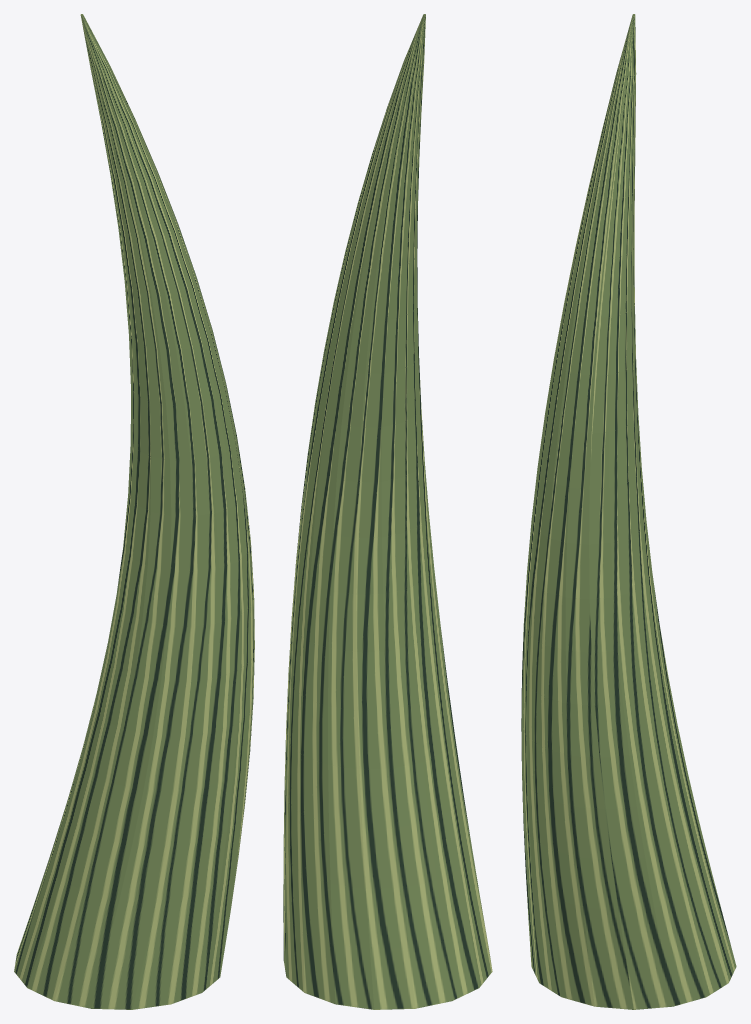
File: horn.glb
The picture shows the model from 3 angles, left to right: view 1: azimuth 30°, elevation 25°; view 2: azimuth 150°, elevation 25°; view 3: azimuth 270°, elevation 25°; orthographic projection. The views are drawn at different scales.
Parts seen in each view (by area): view 1: SH_horn_geometry; view 2: SH_horn_geometry; view 3: SH_horn_geometry.
Boxes of the visible parts, <box> form: SH_horn_geometry: <box>14,14,254,1009</box>; SH_horn_geometry: <box>283,14,492,1009</box>; SH_horn_geometry: <box>521,14,736,1009</box>.
Size of the model in its own units: 0.0595 by 0.275 by 0.0574.
1 material, 1 textured.
